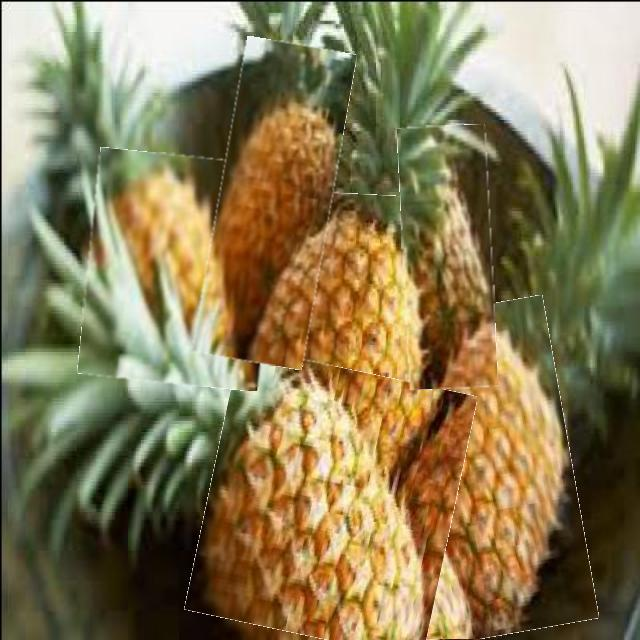Pineapple: (196, 357, 464, 640), (382, 301, 585, 640), (83, 152, 274, 387), (206, 40, 343, 366), (265, 192, 425, 462), (401, 125, 495, 389)
